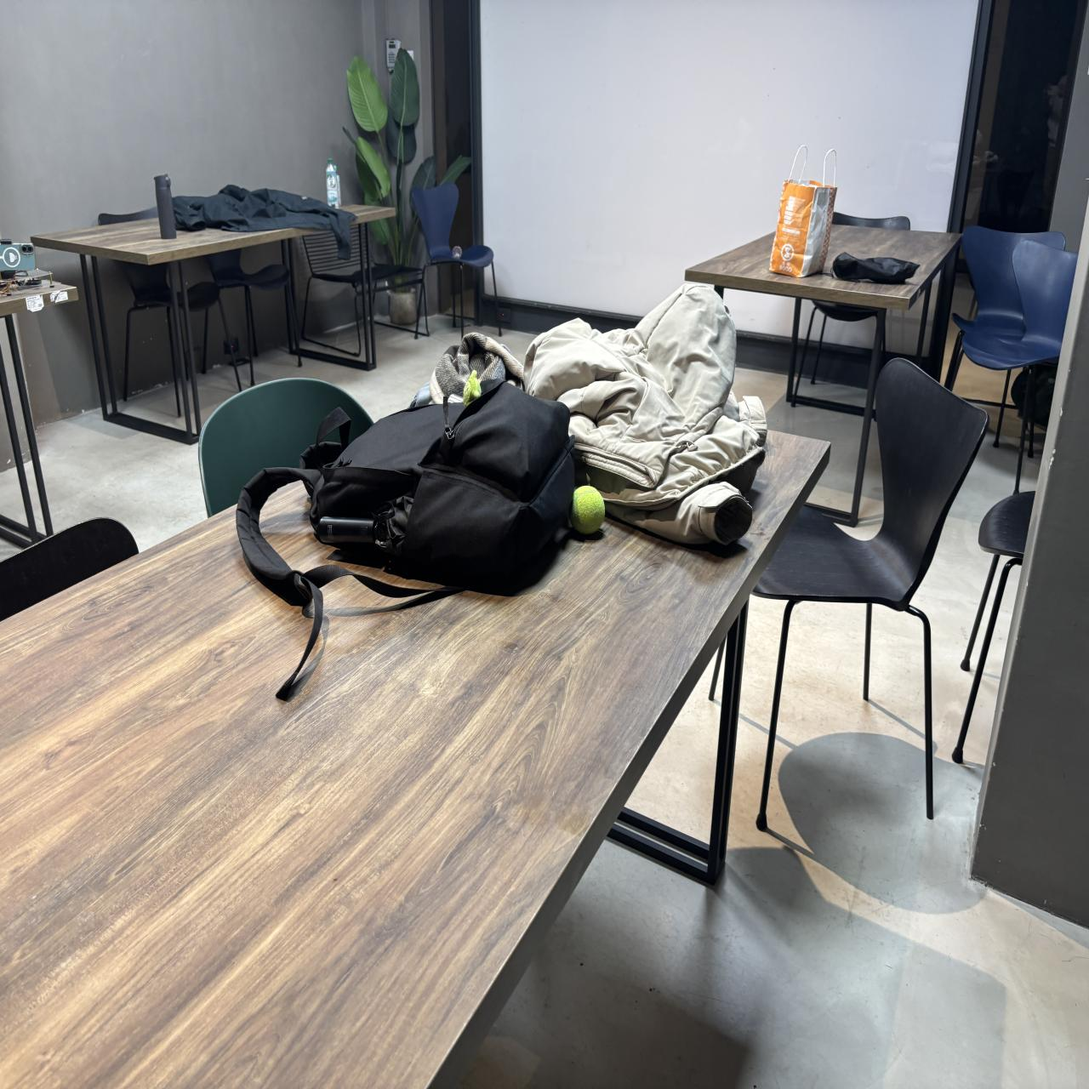plastic-bottle: (326, 158, 340, 208)
tennisball: (570, 486, 605, 535)
